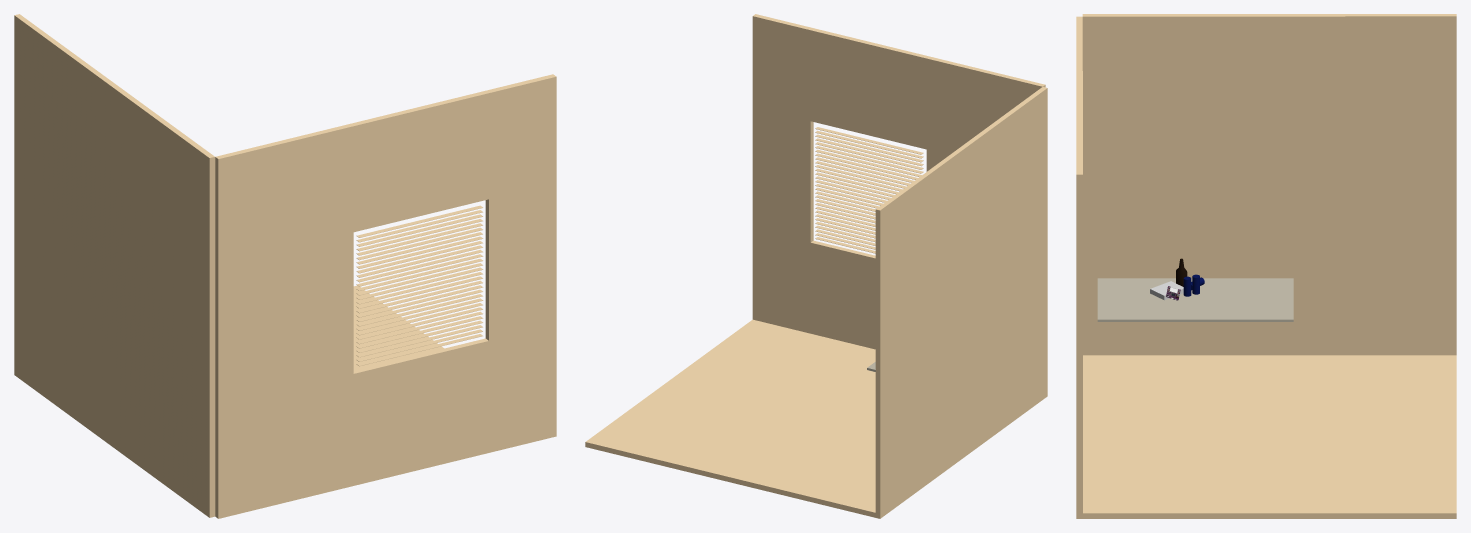
The model's file is registrar.dae.
3 renders of one model, left to right at view 1: azimuth 30°, elevation 25°; view 2: azimuth 150°, elevation 25°; view 3: azimuth 270°, elevation 25°, orthographic. The views are drawn at different scales.
Visible parts, largest first — view 1: SketchUp; view 2: SketchUp; view 3: SketchUp, Desktop.
Boxes of the visible parts, x1,y1,x2,y2 form: SketchUp: [14, 14, 556, 518]; SketchUp: [585, 14, 1047, 518]; SketchUp: [1076, 14, 1456, 518]; Desktop: [1097, 278, 1293, 321].
Bounding box in the file's own units: 122 × 122 × 122.
